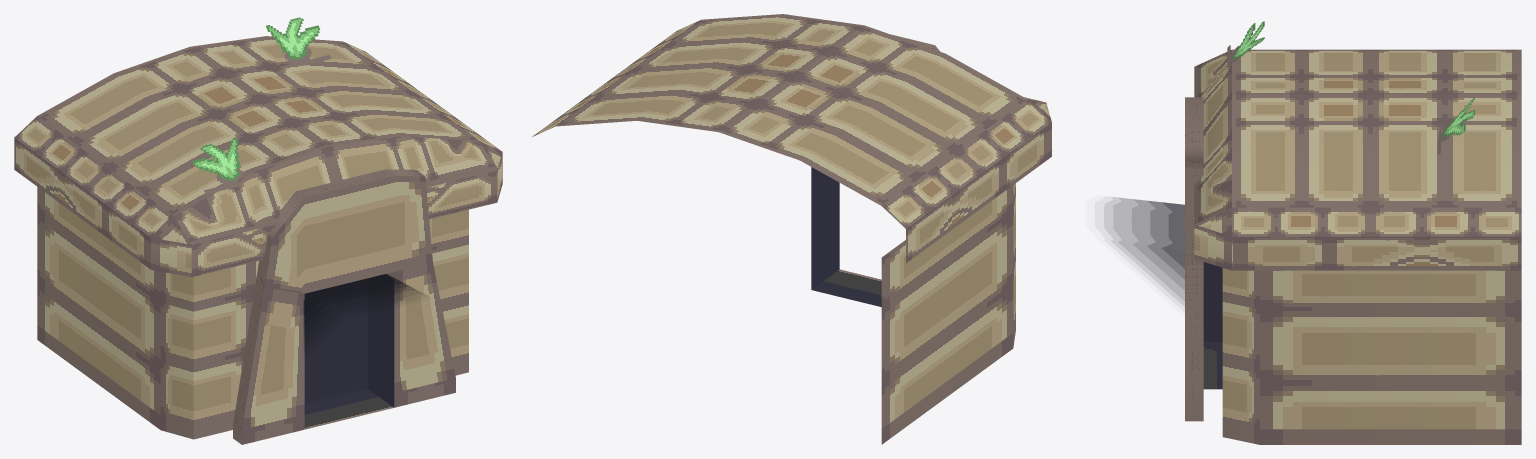
3 renders of one model, left to right at view 1: azimuth 30°, elevation 25°; view 2: azimuth 150°, elevation 25°; view 3: azimuth 270°, elevation 25°, orthographic. The views are drawn at different scales.
Size of the model in its own units: 5.75 by 4.38 by 5.9.
3 materials, 3 textured.
